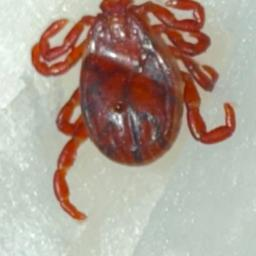Rhipicephalus sanguineus: (31, 0, 234, 220)
